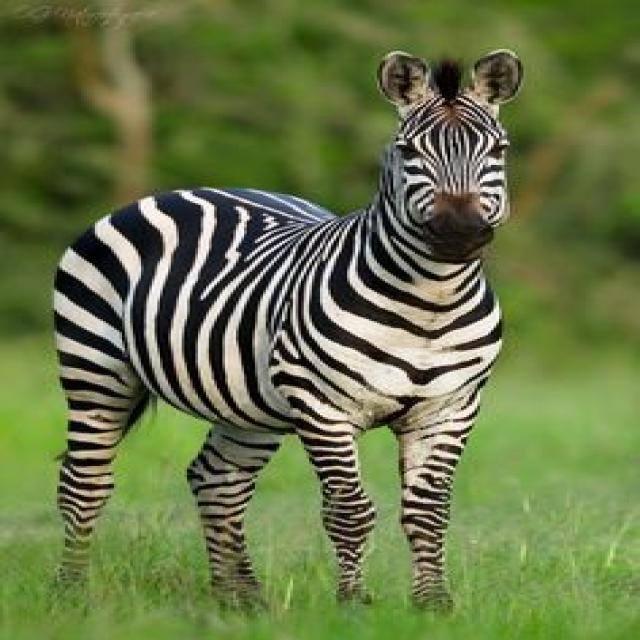Herbivorous: (52, 51, 526, 615)
